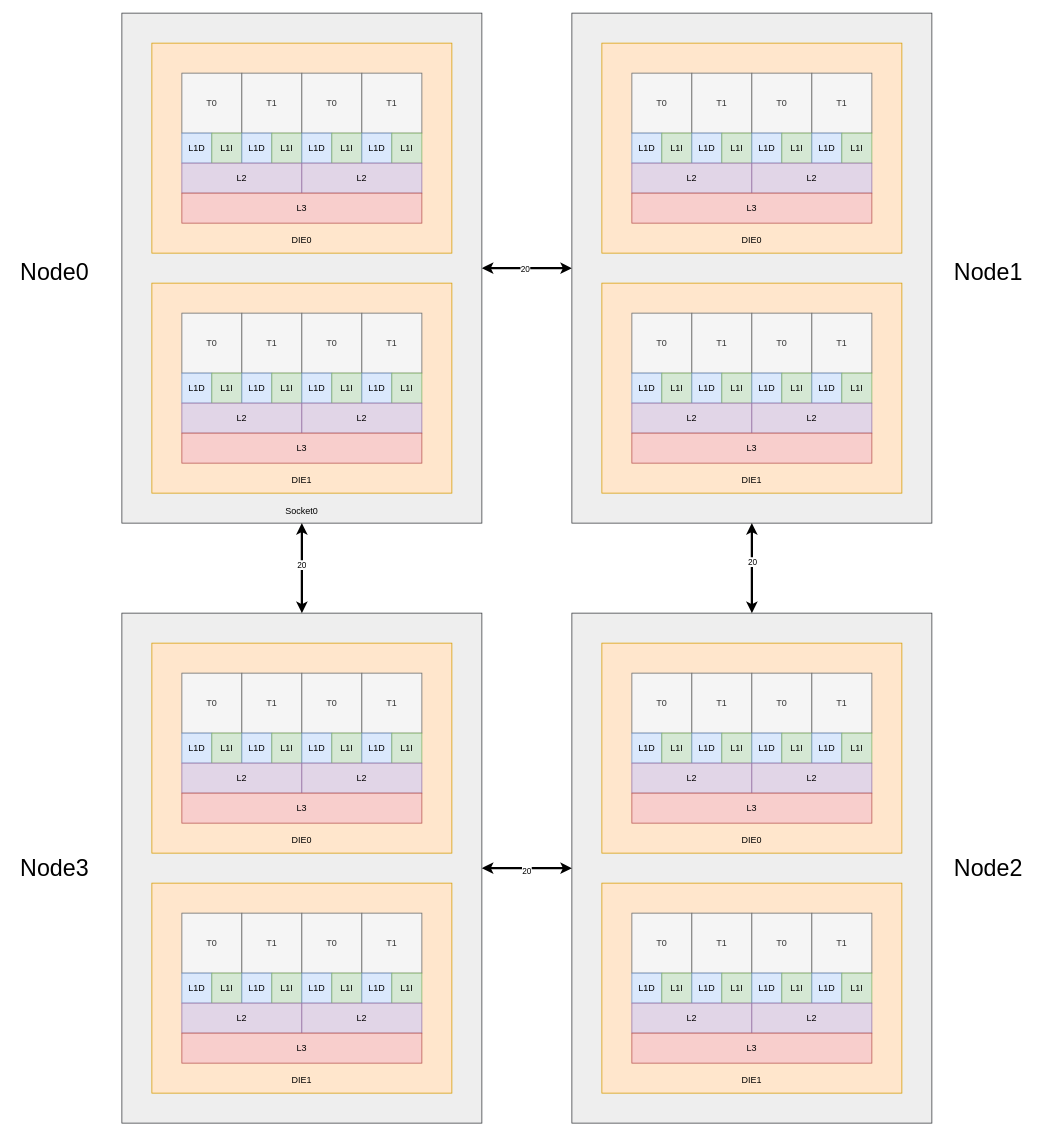
The diagram is 1042 pixels wide and 1136 high, and some of its shapes have lost their labels. Here are the shapes that lost their labels. From the top down, the box of each, then its label:
(571, 12, 932, 523): Socket1
(121, 612, 482, 1123): Socket3
(571, 612, 932, 1123): Socket2
